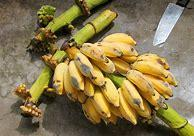banana: (42, 34, 182, 128)
